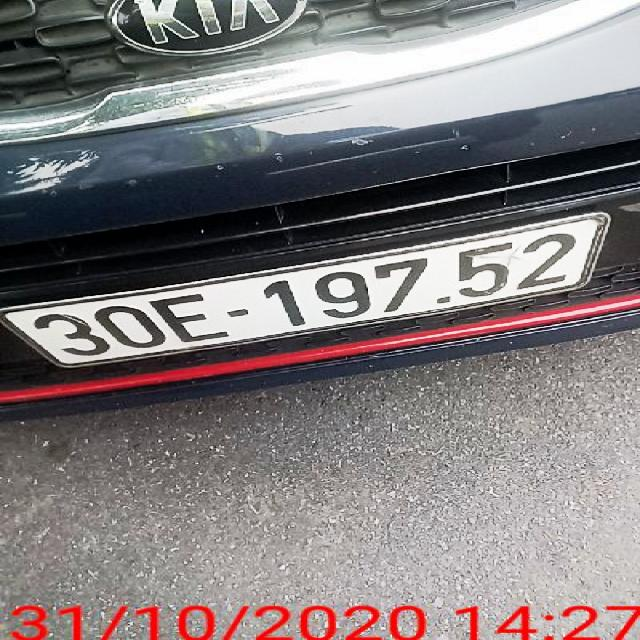license_plate: (1, 218, 602, 369)
